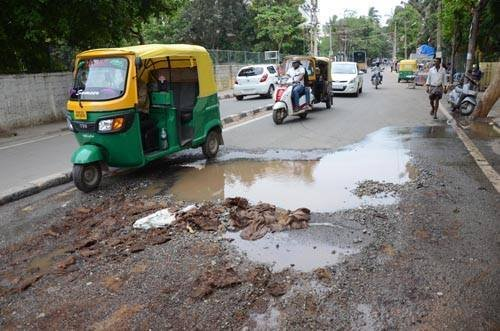pothole: (172, 113, 421, 207), (222, 226, 366, 282)
